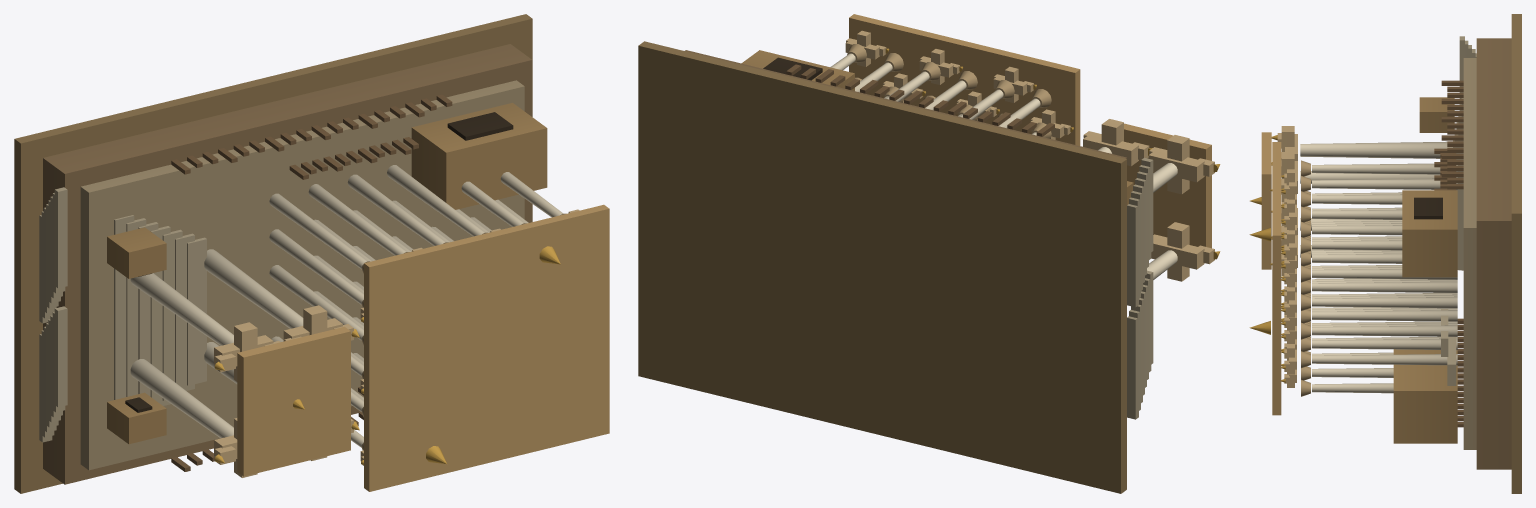
Rendered from persepolis.glb.
3 views of the same model, side by side, from view 1: azimuth 30°, elevation 25°; view 2: azimuth 150°, elevation 25°; view 3: azimuth 270°, elevation 25° (orthographic). The views are drawn at different scales.
Parts seen in each view (by area): view 1: part-palace, part-terrace, part-terraceShade, part-ground, part-column, part-stair, part-relief, part-capital, part-shadow, part-gold; view 2: part-ground, part-palace, part-capital, part-stair, part-column, part-relief, part-terraceShade; view 3: part-column, part-terraceShade, part-palace, part-capital, part-terrace, part-ground, part-relief, part-stair, part-gold, part-shadow.
Boxes of the visible parts, left/top/right/bottom form: part-palace: left=107, top=103, right=609, bottom=491; part-terrace: left=80, top=80, right=524, bottom=470; part-terraceShade: left=43, top=44, right=532, bottom=484; part-ground: left=14, top=14, right=532, bottom=493; part-column: left=130, top=165, right=562, bottom=447; part-stair: left=39, top=187, right=206, bottom=442; part-relief: left=171, top=94, right=452, bottom=471; part-capital: left=214, top=209, right=579, bottom=477; part-shadow: left=125, top=112, right=513, bottom=412; part-gold: left=214, top=246, right=560, bottom=464; part-ground: left=638, top=41, right=1126, bottom=493; part-palace: left=741, top=14, right=1211, bottom=248; part-capital: left=845, top=30, right=1214, bottom=281; part-stair: left=1127, top=157, right=1153, bottom=419; part-column: left=830, top=53, right=1177, bottom=279; part-relief: left=786, top=64, right=1054, bottom=136; part-terraceShade: left=685, top=50, right=1126, bottom=158; part-column: left=1300, top=141, right=1457, bottom=393; part-terraceShade: left=1476, top=38, right=1511, bottom=469; part-palace: left=1261, top=97, right=1457, bottom=443; part-capital: left=1277, top=126, right=1310, bottom=396; part-terrace: left=1463, top=58, right=1476, bottom=449; part-ground: left=1511, top=14, right=1521, bottom=493; part-relief: left=1434, top=80, right=1463, bottom=427; part-stair: left=1441, top=36, right=1476, bottom=385; part-gold: left=1249, top=135, right=1285, bottom=382; part-shadow: left=1414, top=197, right=1442, bottom=219.
Size of the model in its own units: 1.62 by 1.06 by 0.935.
